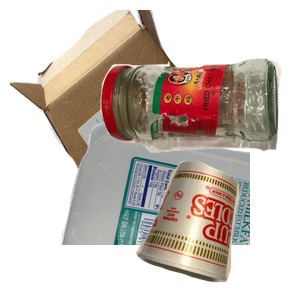cardboard: (10, 10, 227, 190)
glass: (98, 56, 300, 201)
plastic: (58, 120, 298, 300)
trash: (133, 158, 300, 300)
